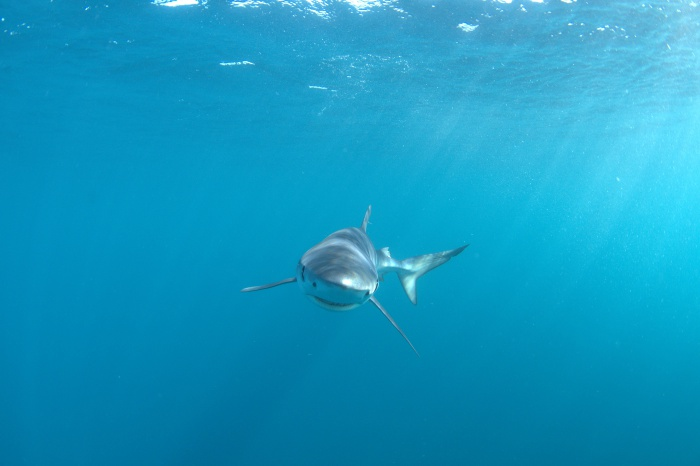Azul: (235, 194, 482, 348)
